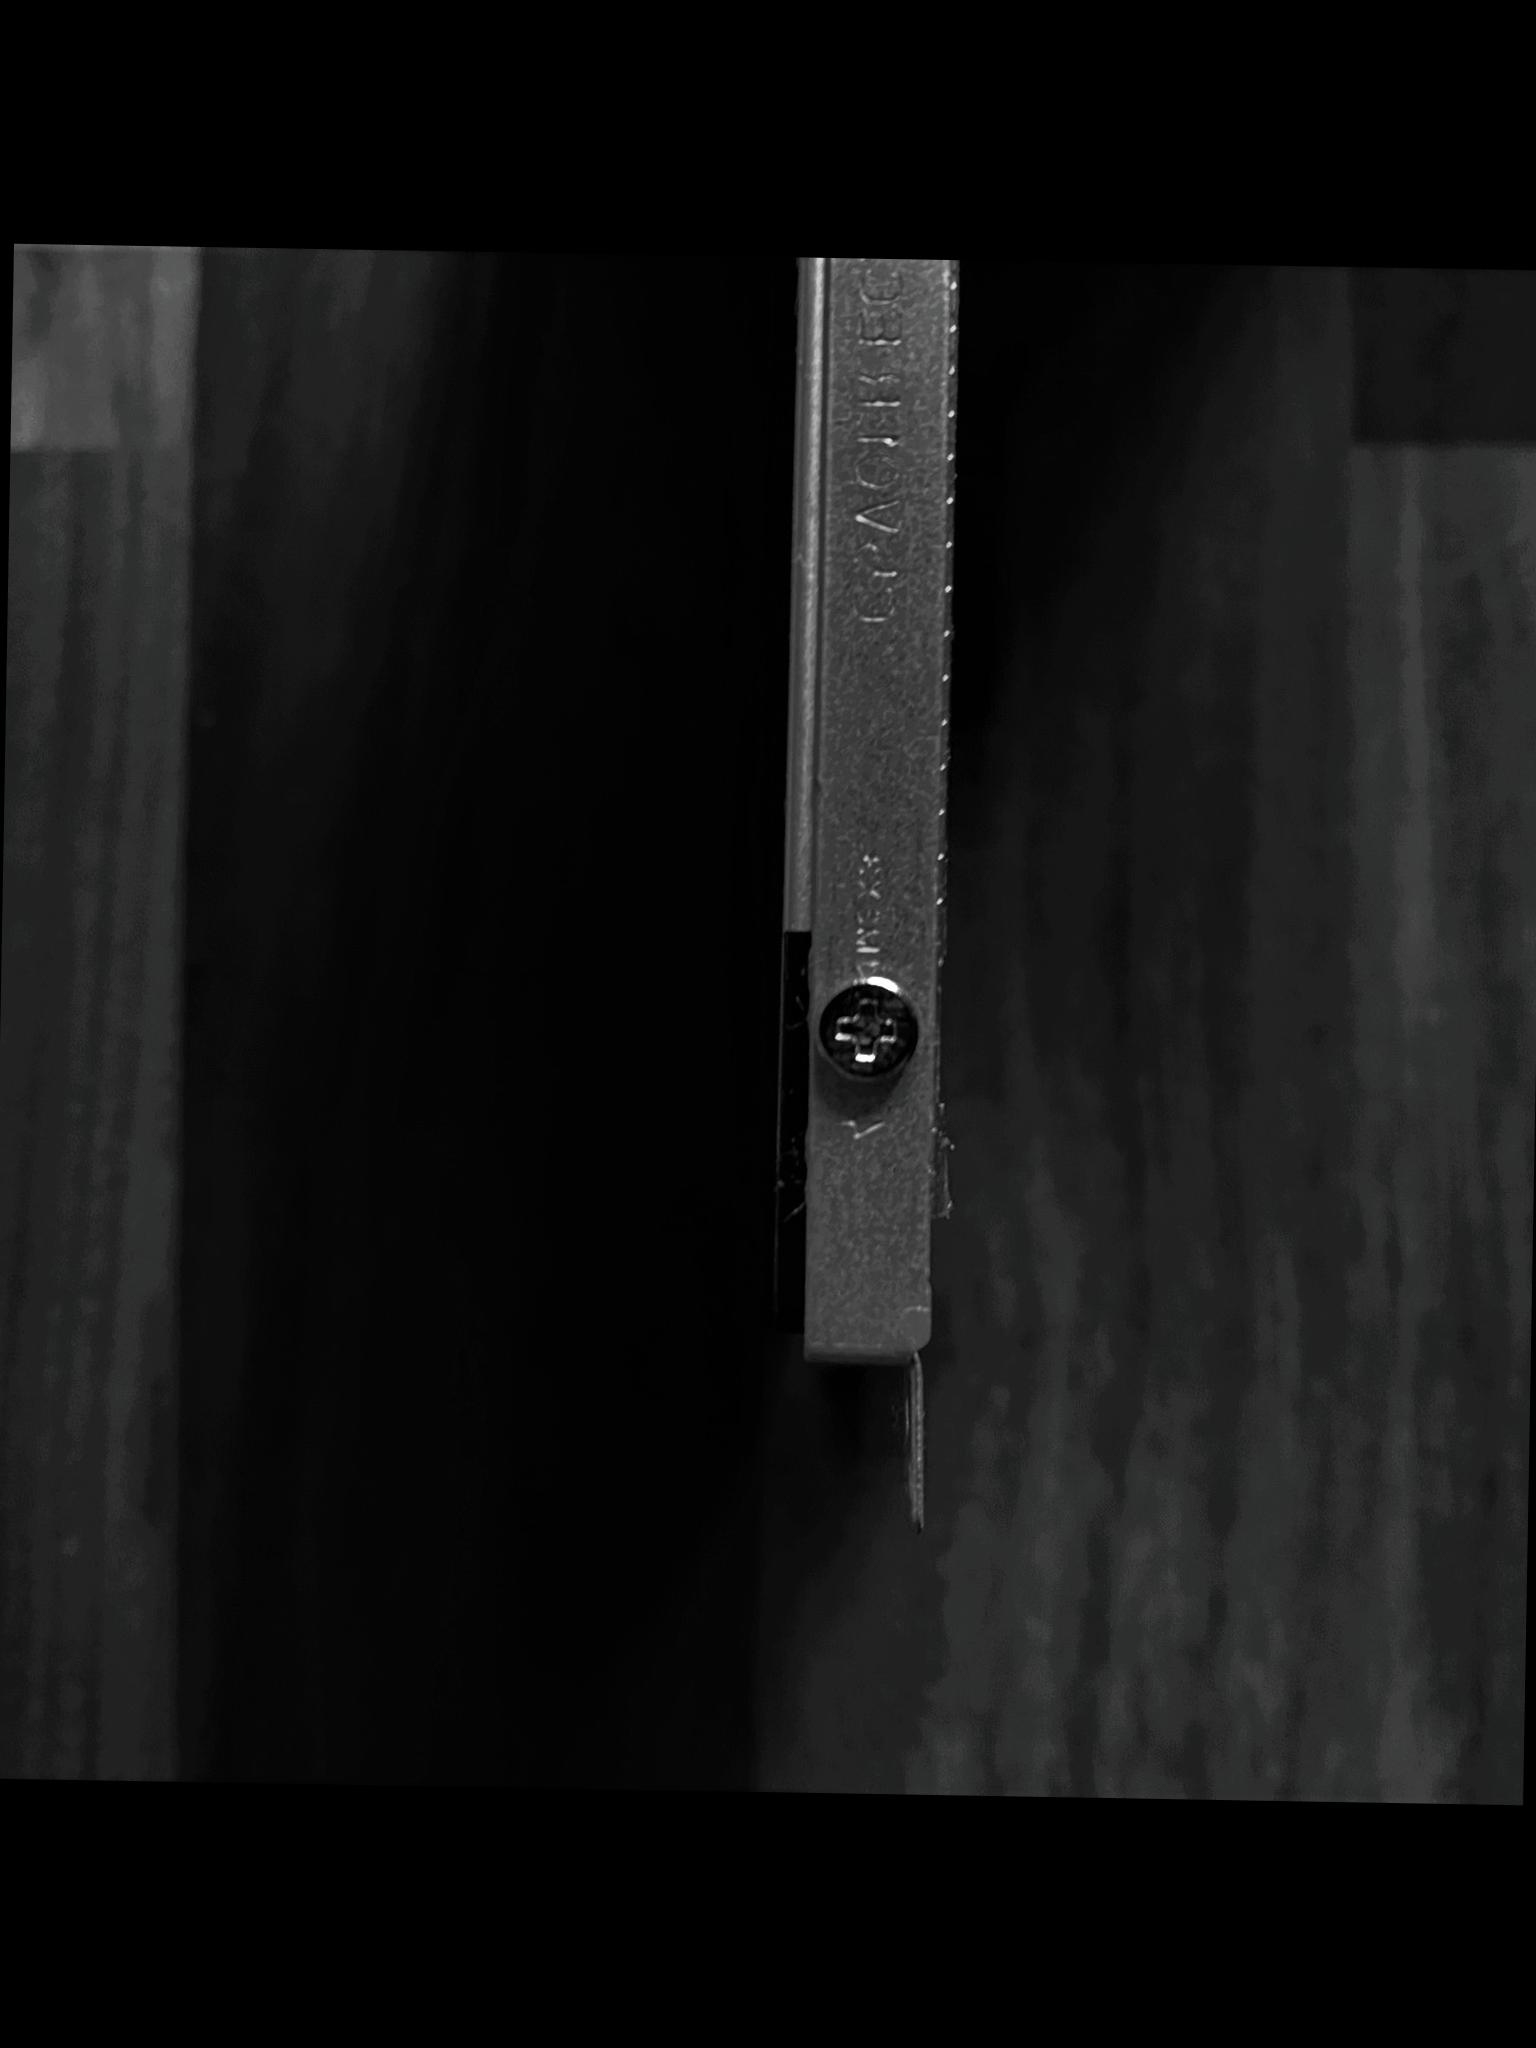PH: (812, 969, 921, 1085)
